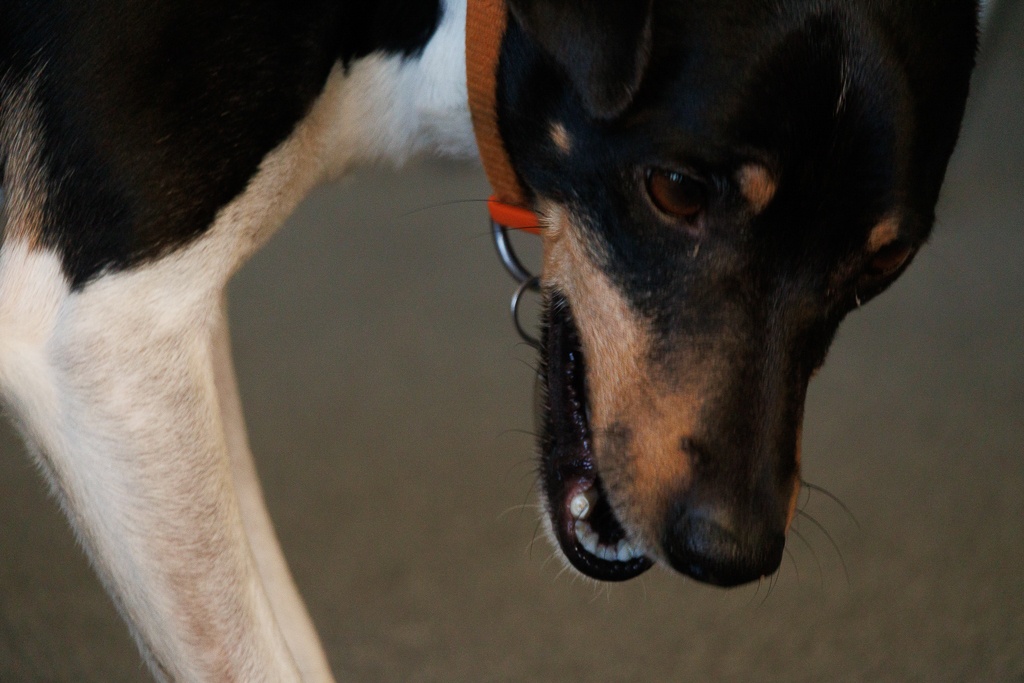Dog: (0, 0, 988, 683)
